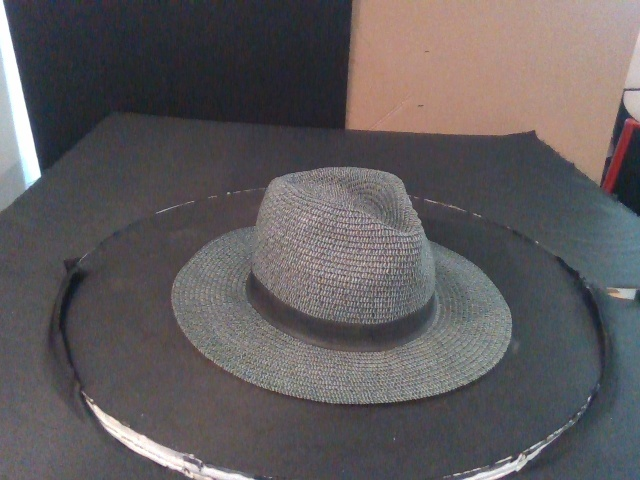hat: (170, 165, 513, 406)
